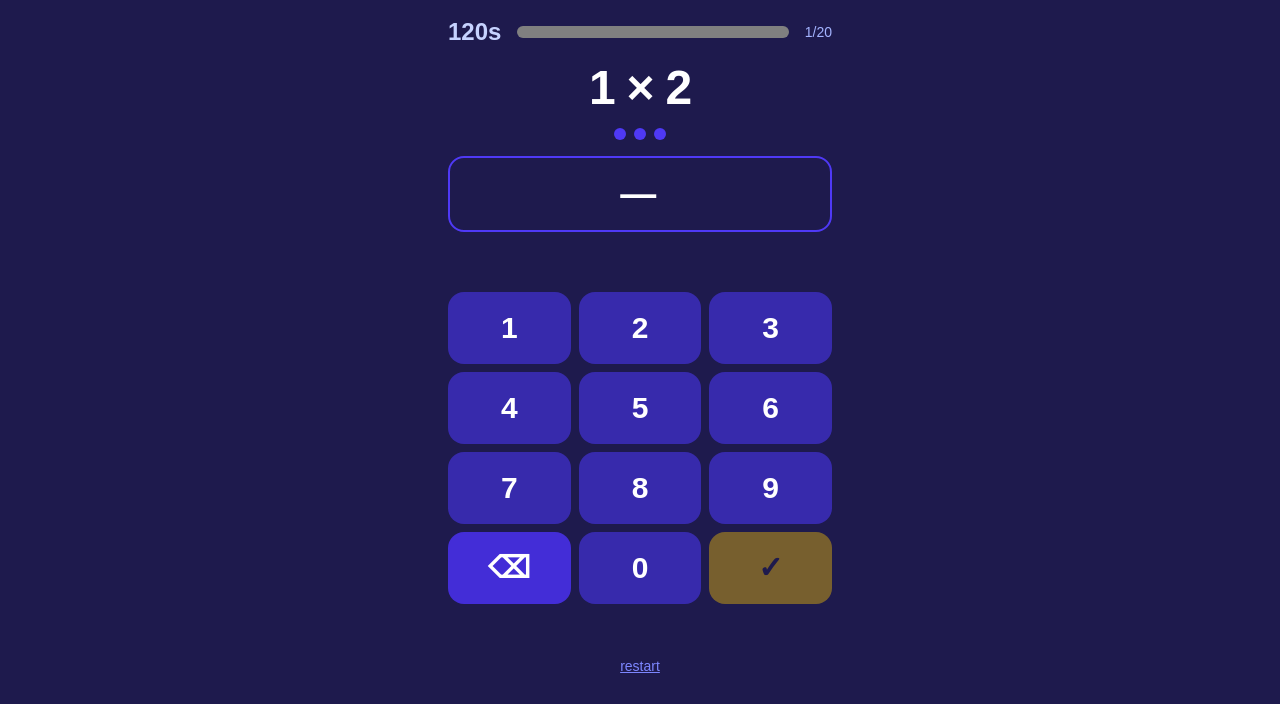
Scenario: playing phase (playerId in URL) › correct answer via keyboard (Enter) advances to next question
# Set answer then submit in the same act so the closure picks up the state
Replace the text in the field with id "capture-input" with "2": x=640, y=194 x1=448 y1=156 x2=832 y2=232
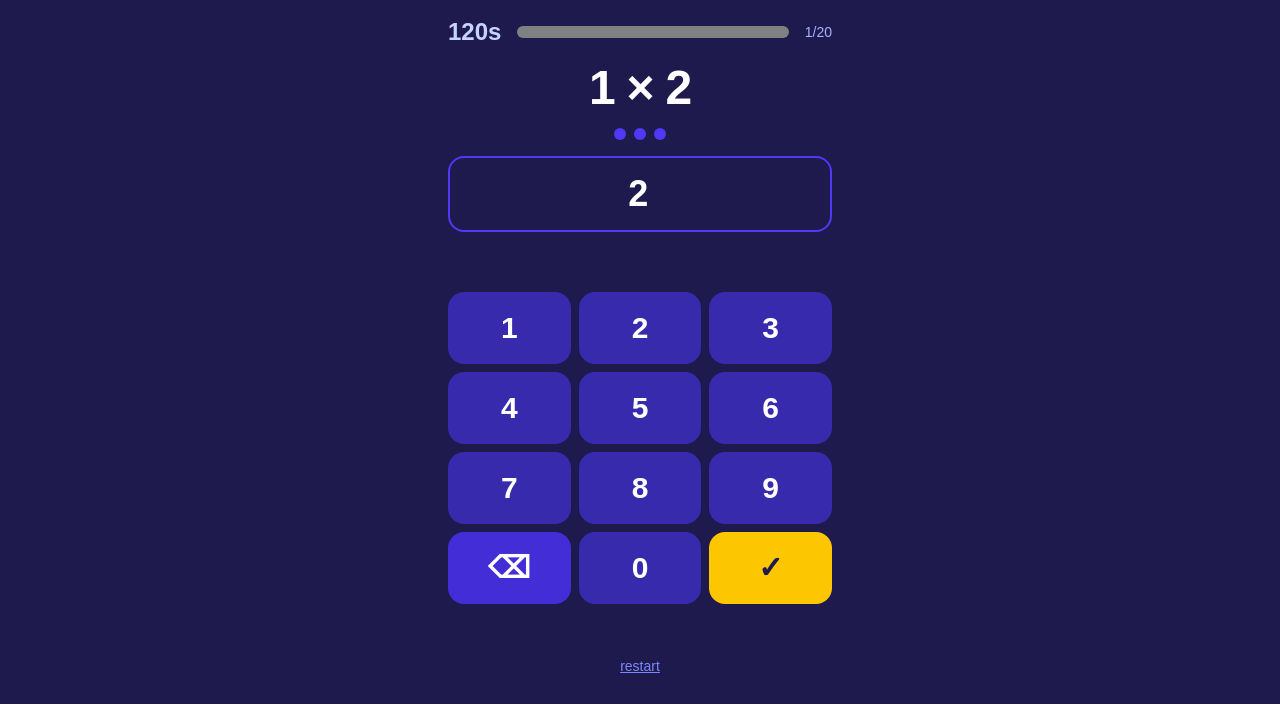
Press Enter in the field with id "capture-input", box x1=448 y1=156 x2=832 y2=232
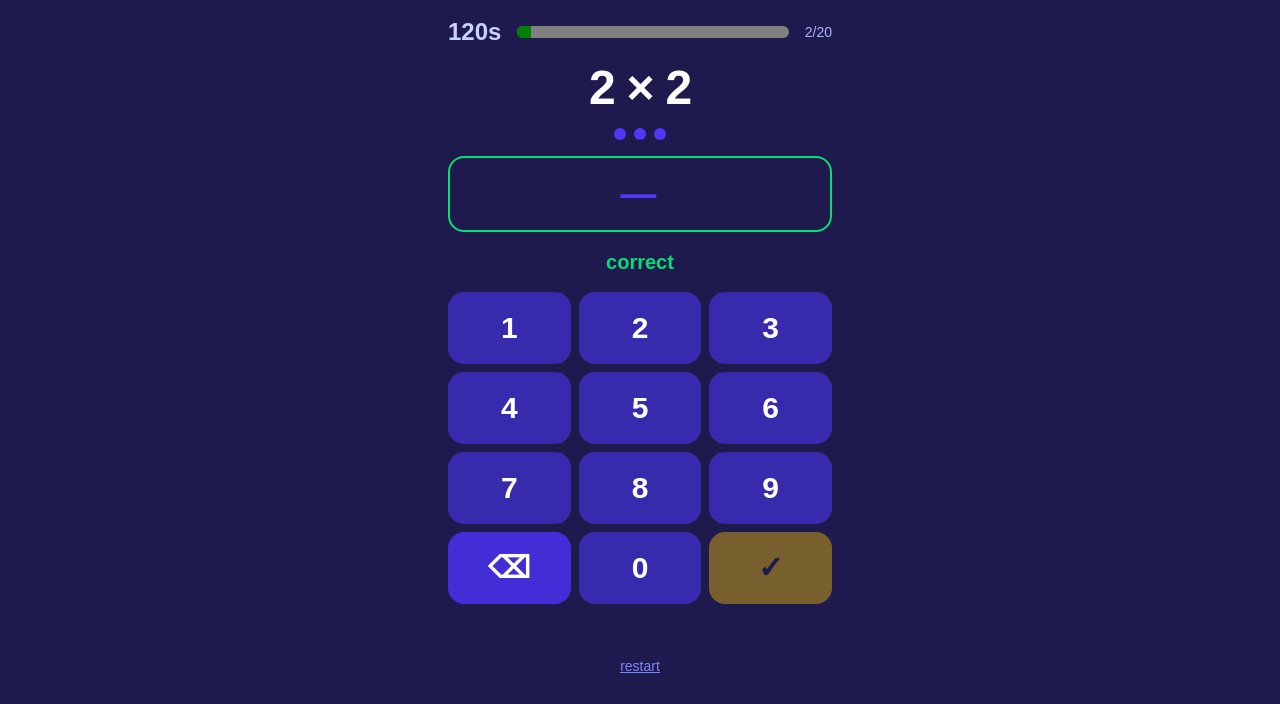
Expected: the text "2 × 2" is shown, x1=589 y1=64 x2=691 y2=112
